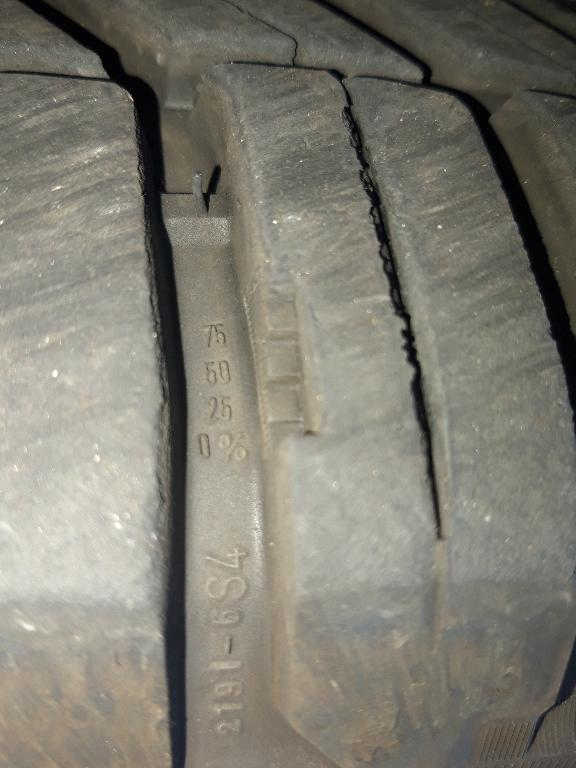temoin:90: (237, 251, 326, 468)
